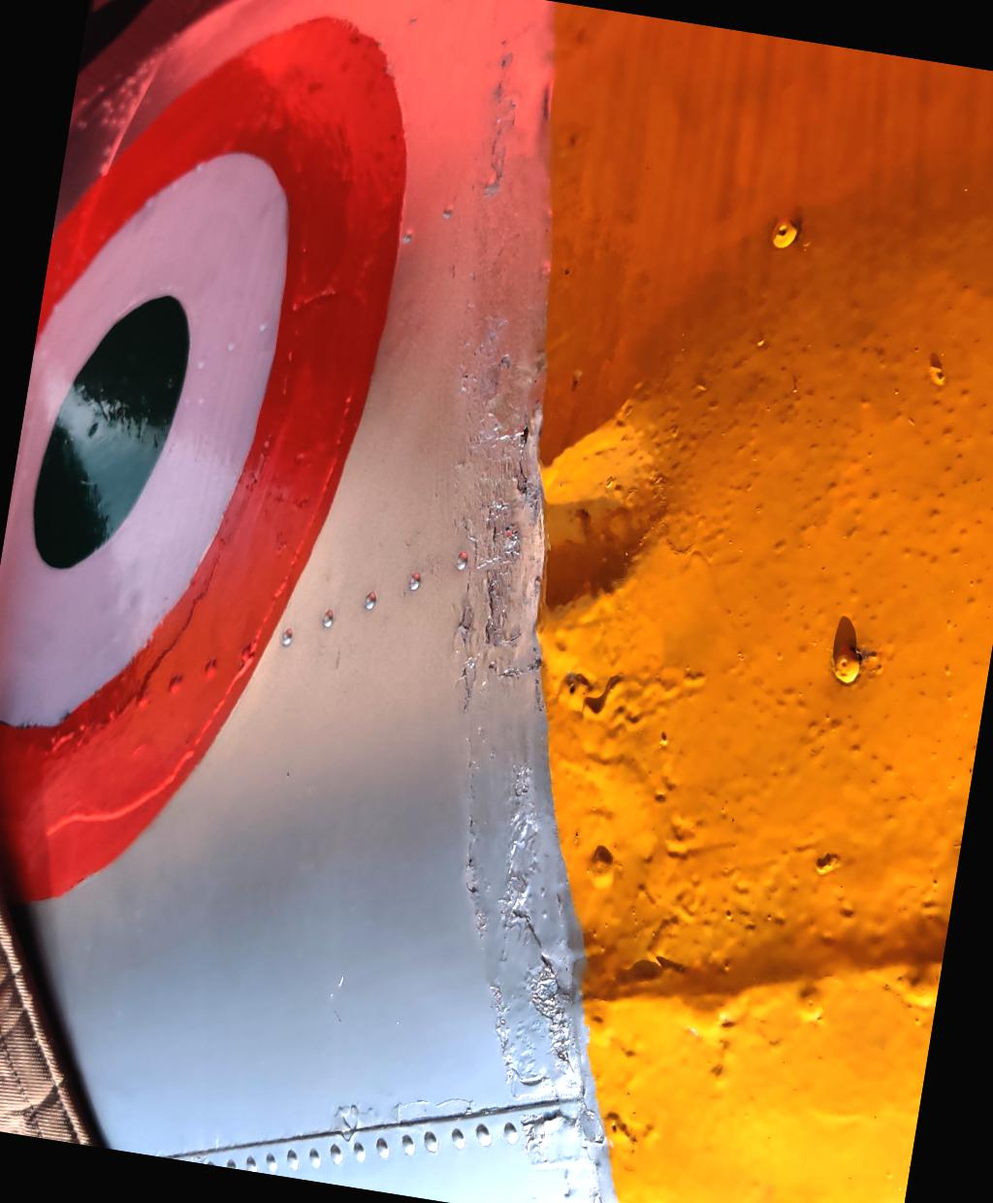dent: (450, 324, 739, 675)
